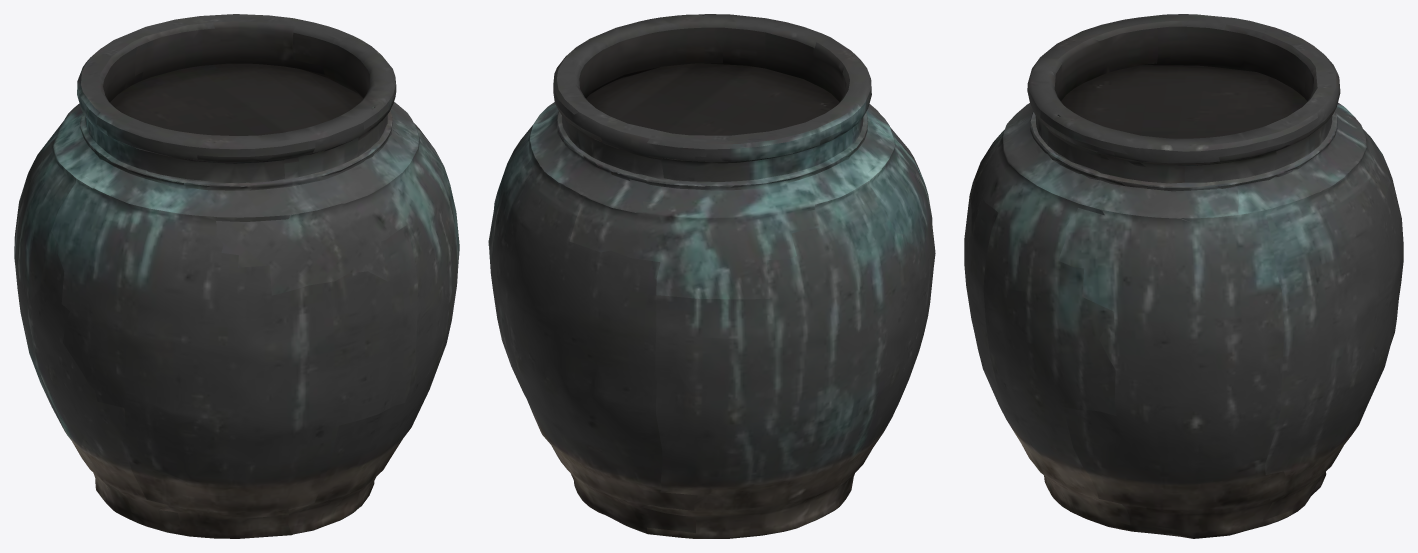
The model's file is PROP-008.glb.
3 renders of one model, left to right at view 1: azimuth 30°, elevation 25°; view 2: azimuth 150°, elevation 25°; view 3: azimuth 270°, elevation 25°, orthographic.
Parts seen in each view (by area): view 1: world; view 2: world; view 3: world.
Boxes of the visible parts, <box> form: world: <box>14,14,459,538</box>; world: <box>488,14,935,538</box>; world: <box>964,14,1403,538</box>.
Bounding box in the file's own units: 0.28 × 0.279 × 0.2769.
Materials: 1 (1 with a texture image).
